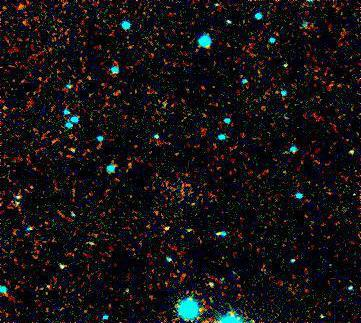star: (150, 214, 180, 244)
